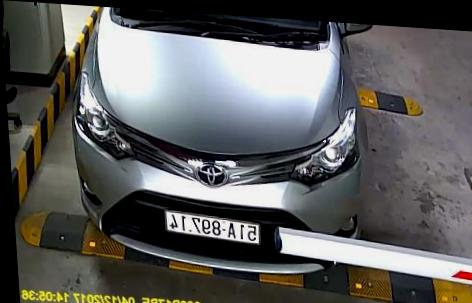License_Plate: (161, 212, 266, 246)
